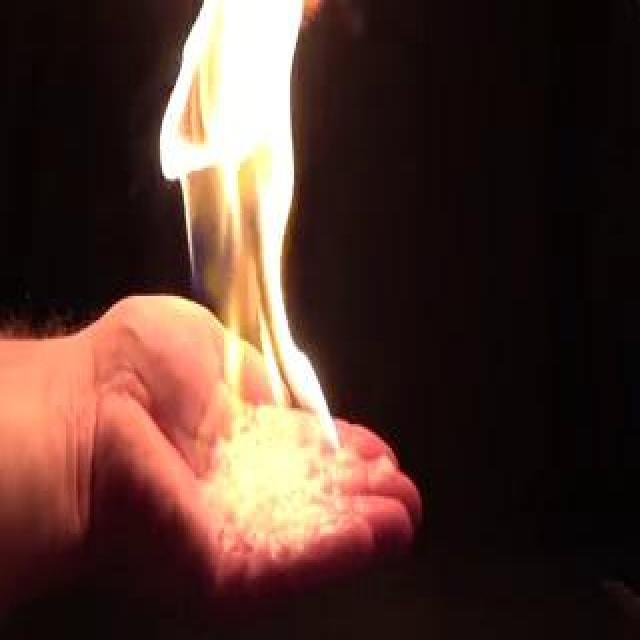Fire: (156, 3, 338, 488)
